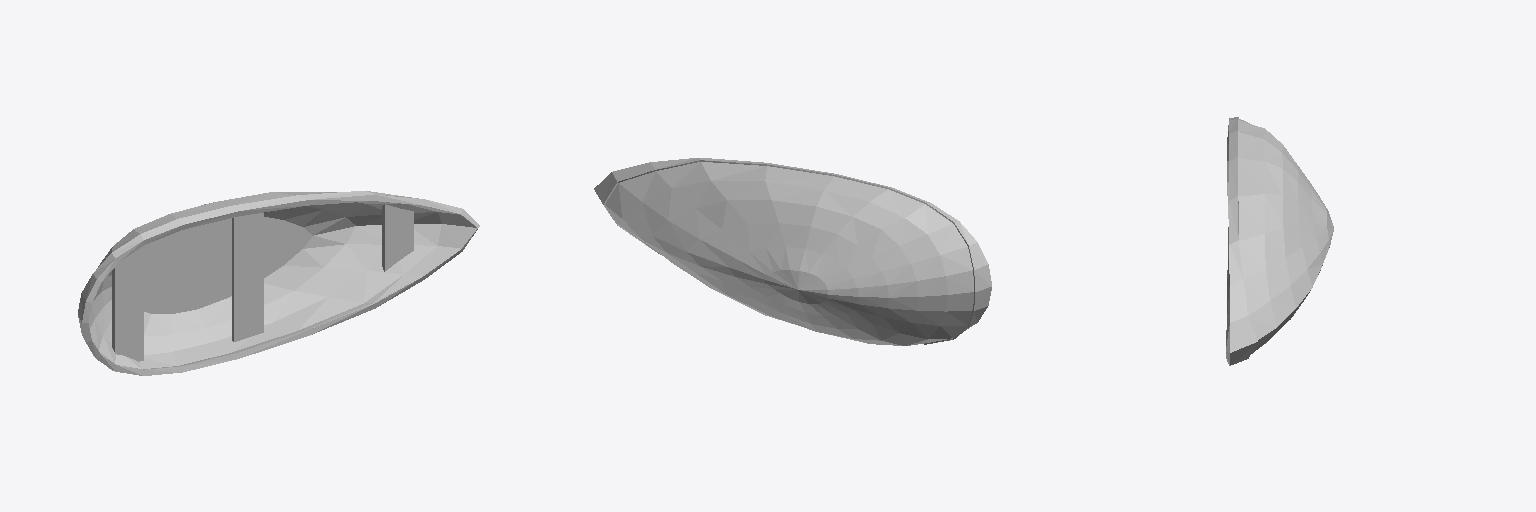
Rendered from ButterBoat.obj.
The picture shows the model from 3 angles: view 1: azimuth 30°, elevation 25°; view 2: azimuth 150°, elevation 25°; view 3: azimuth 270°, elevation 25°; orthographic projection.
Visible parts, largest first — view 1: Sphere, Cube.001, Cube, Cube.002; view 2: Sphere; view 3: Sphere.
Part boxes in pixels (left/top/right/bottom): Sphere: left=78, top=191, right=479, bottom=375; Cube.001: left=232, top=213, right=263, bottom=341; Cube: left=112, top=246, right=143, bottom=361; Cube.002: left=382, top=204, right=413, bottom=271; Sphere: left=594, top=158, right=991, bottom=345; Sphere: left=1226, top=117, right=1333, bottom=365.
Bounding box in the file's own units: 4.31 × 1.59 × 1.02.